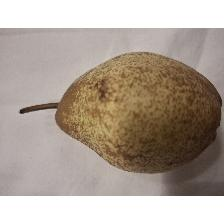Birne: (18, 50, 224, 176)
